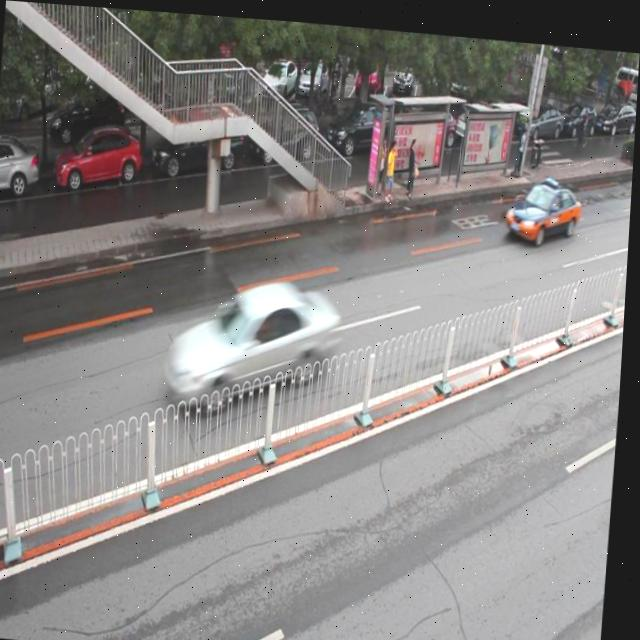car: (168, 267, 344, 413), (51, 118, 145, 193), (151, 104, 246, 176), (505, 163, 583, 242), (323, 93, 403, 156), (249, 96, 320, 163), (0, 134, 41, 196)
